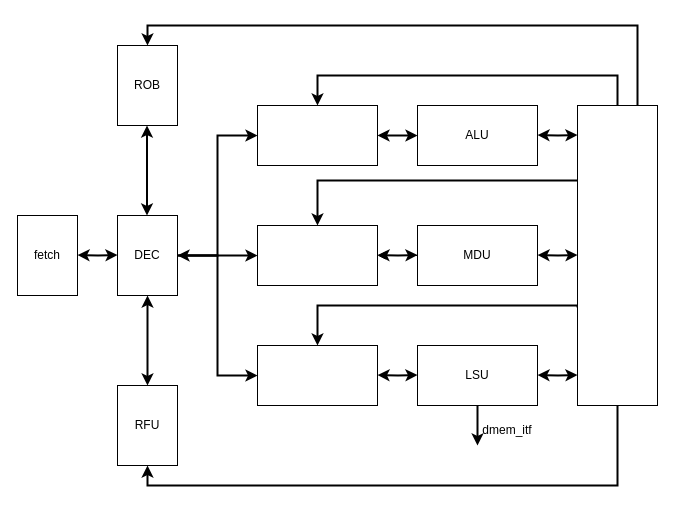
The diagram is 675 pixels wide and 511 high, and some of its shapes have lost their labels. The shapes that lost their labels are listed below. From the top down, each one's centre as x and y in pixels, then its label:
the point at 317,135: RVS (ALU)
the point at 317,255: RVS (MDU)
the point at 617,255: CDB
the point at 317,375: RVS (LSU)
